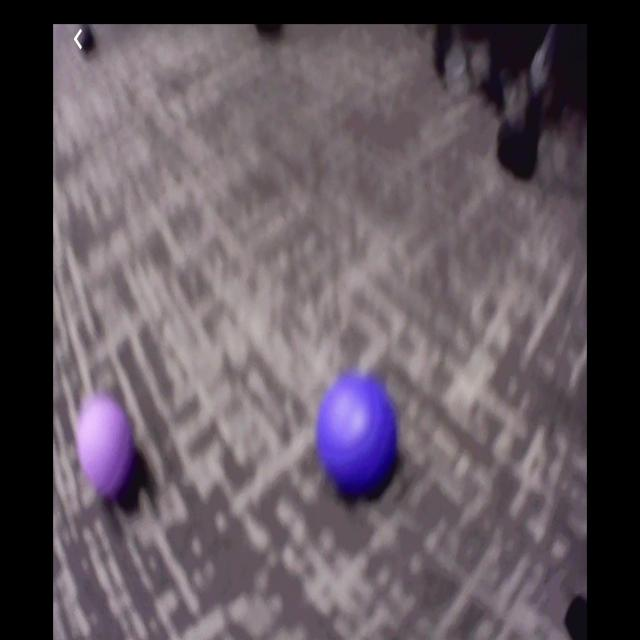ball: (319, 376, 400, 496), (79, 400, 130, 495)
